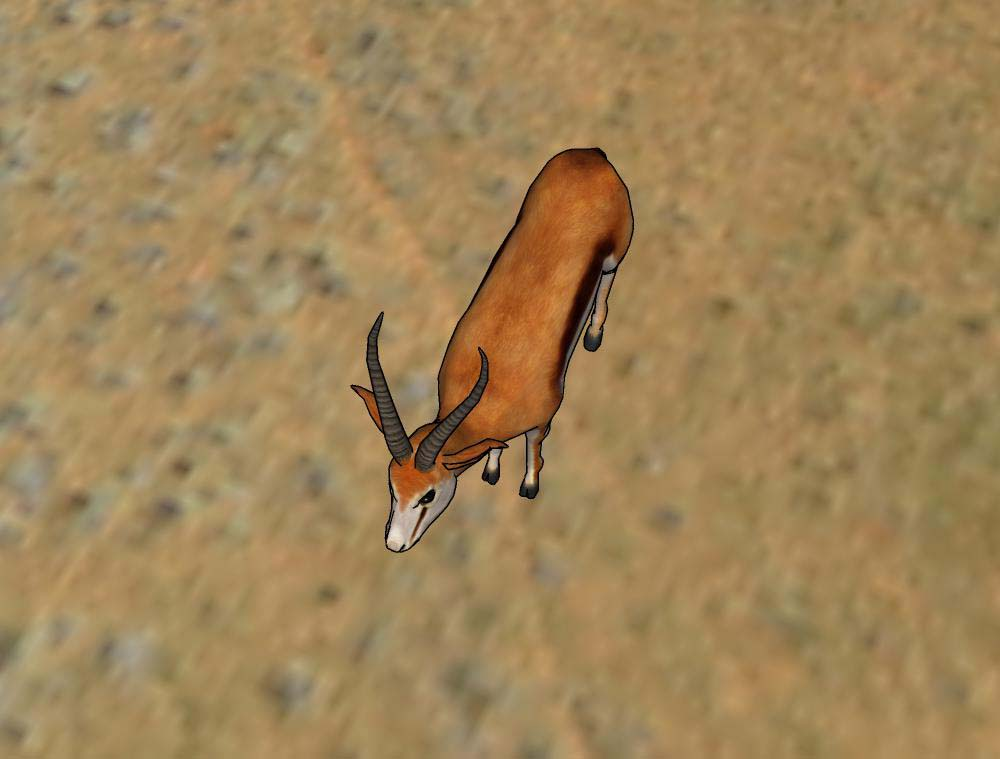springbok: (347, 132, 651, 557)
